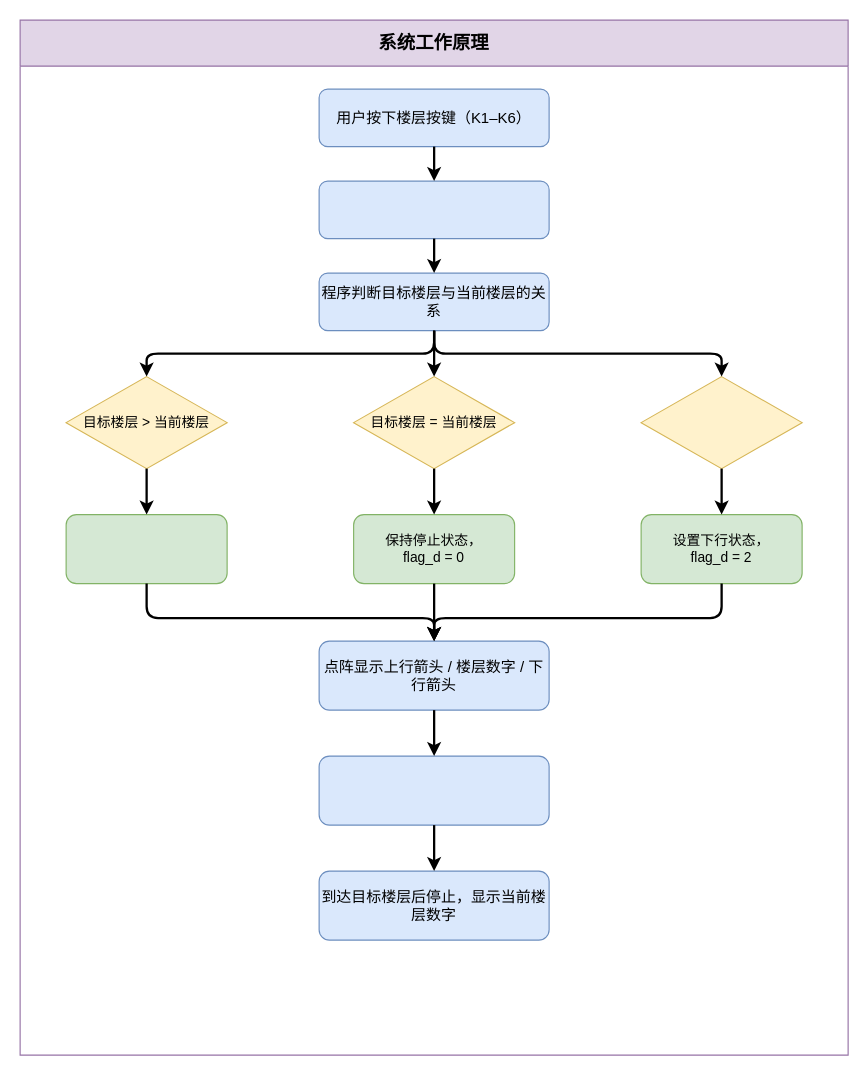
Some shapes in this 868 by 1075 pixel diagram are drawn without their labels. The centre of each missing label's shape, as x and y in pixels:
单片机 P1 口检测到按键信号: pixel 433 209
定时器中断控制楼层切换（每秒 1 层）: pixel 433 790
目标楼层 < 当前楼层: pixel 721 422
设置上行状态， flag_d = 1: pixel 146 548
